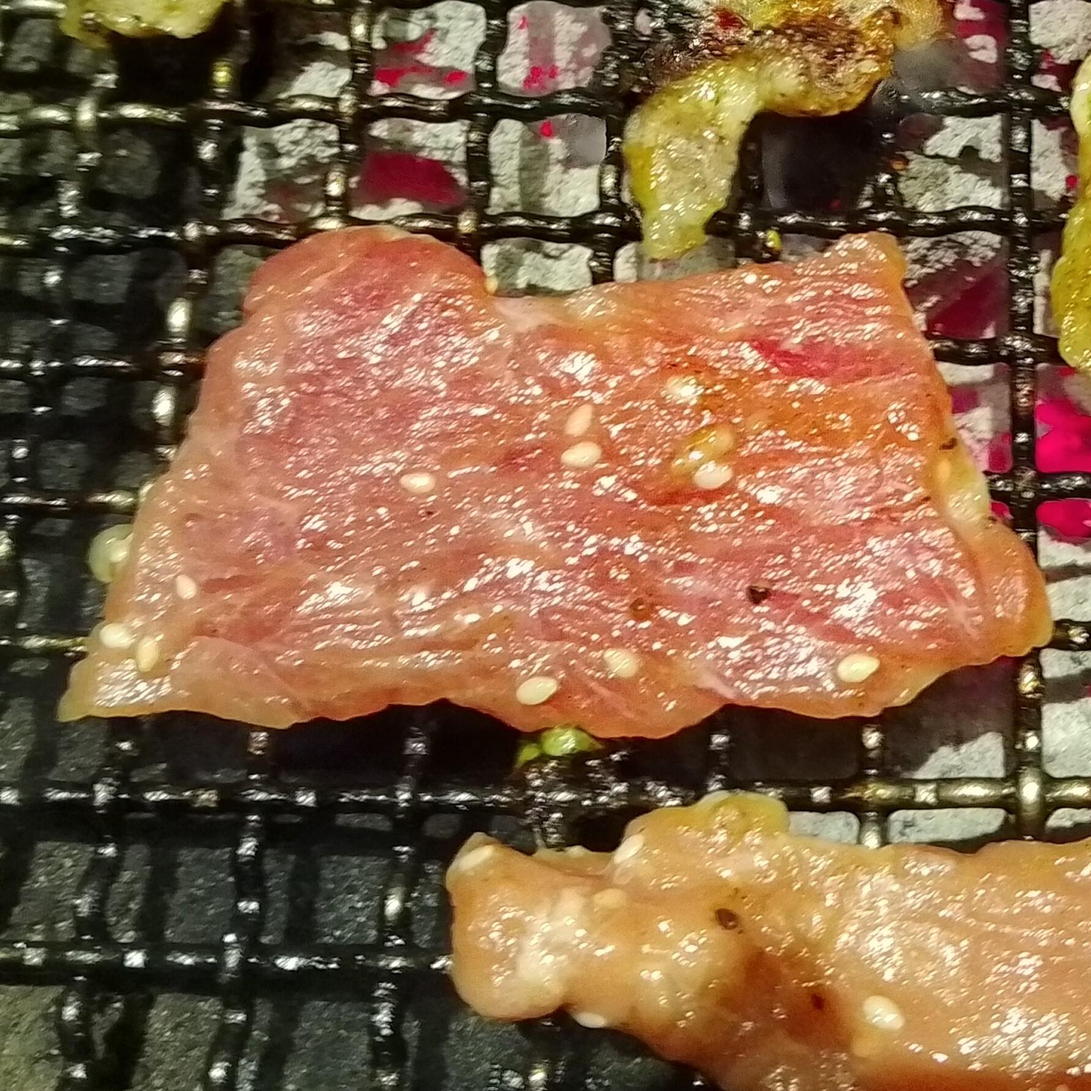Overcooked: (622, 5, 900, 276)
Undercooked: (55, 230, 1056, 748), (443, 793, 1090, 1090)
